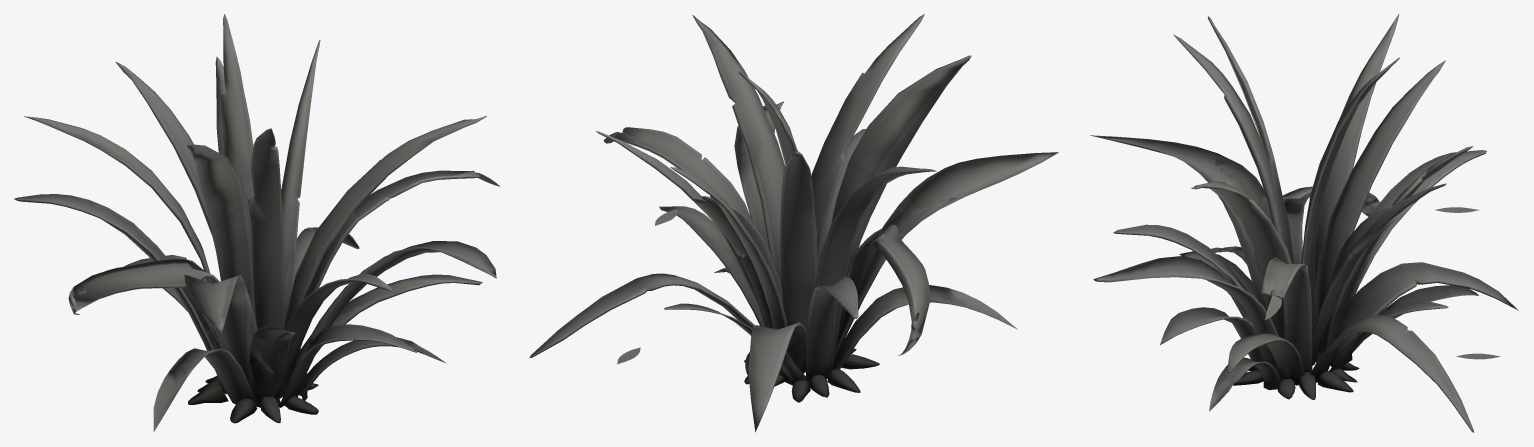
File: silver-grass.glb
The picture shows the model from 3 angles, left to right: view 1: azimuth 30°, elevation 25°; view 2: azimuth 150°, elevation 25°; view 3: azimuth 270°, elevation 25°; orthographic projection. The views are drawn at different scales.
Visible parts, largest first — view 1: tripo_node_bd0635ea-8888-4a76-accc-8446a35dd84e; view 2: tripo_node_bd0635ea-8888-4a76-accc-8446a35dd84e; view 3: tripo_node_bd0635ea-8888-4a76-accc-8446a35dd84e.
Part boxes in pixels (bbox=[...]): tripo_node_bd0635ea-8888-4a76-accc-8446a35dd84e: bbox=[14, 14, 500, 432]; tripo_node_bd0635ea-8888-4a76-accc-8446a35dd84e: bbox=[529, 14, 1058, 432]; tripo_node_bd0635ea-8888-4a76-accc-8446a35dd84e: bbox=[1090, 14, 1518, 432].
Bounding box in the file's own units: 0.9995 × 0.8022 × 0.9507.
Materials: 1 (1 with a texture image).
